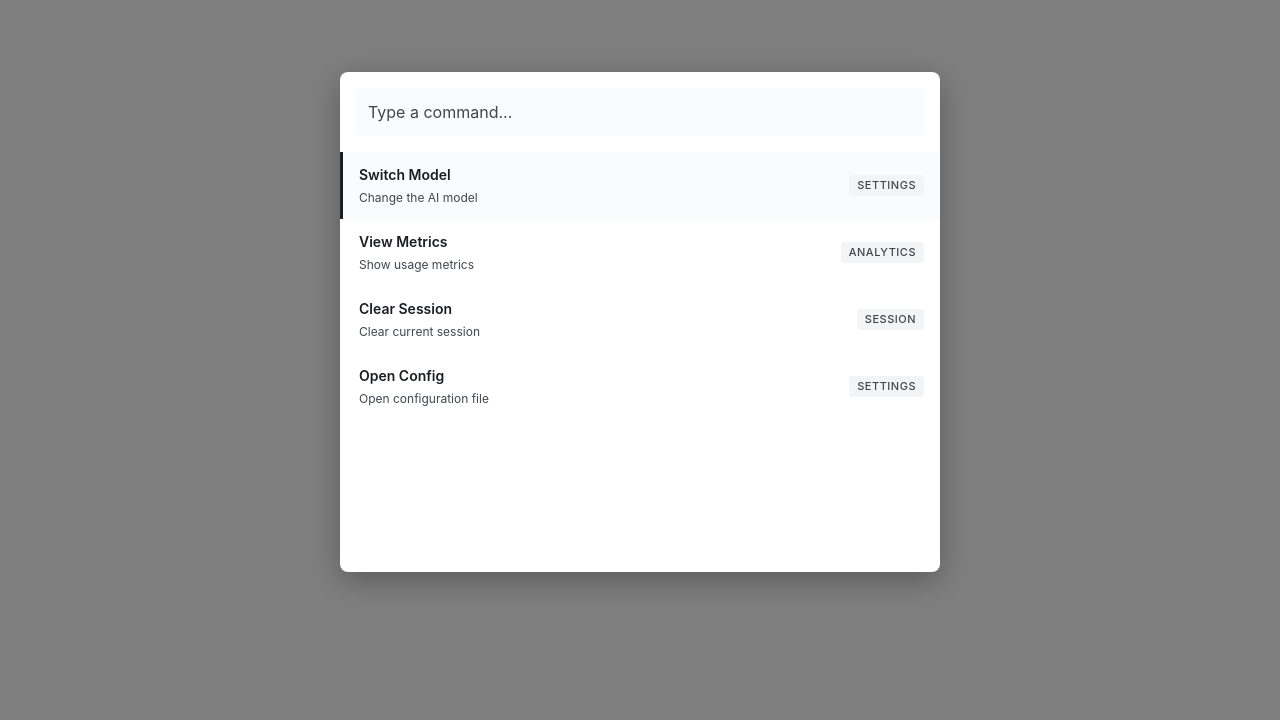
Scenario: CommandPalette.vue › Search Functionality › should show empty state when no matches found
The width and height of the screenshot is (1280, 720).
Type "nonexistent" into the field with class "search-input" at x=640, y=112, box x1=356 y1=88 x2=924 y2=136
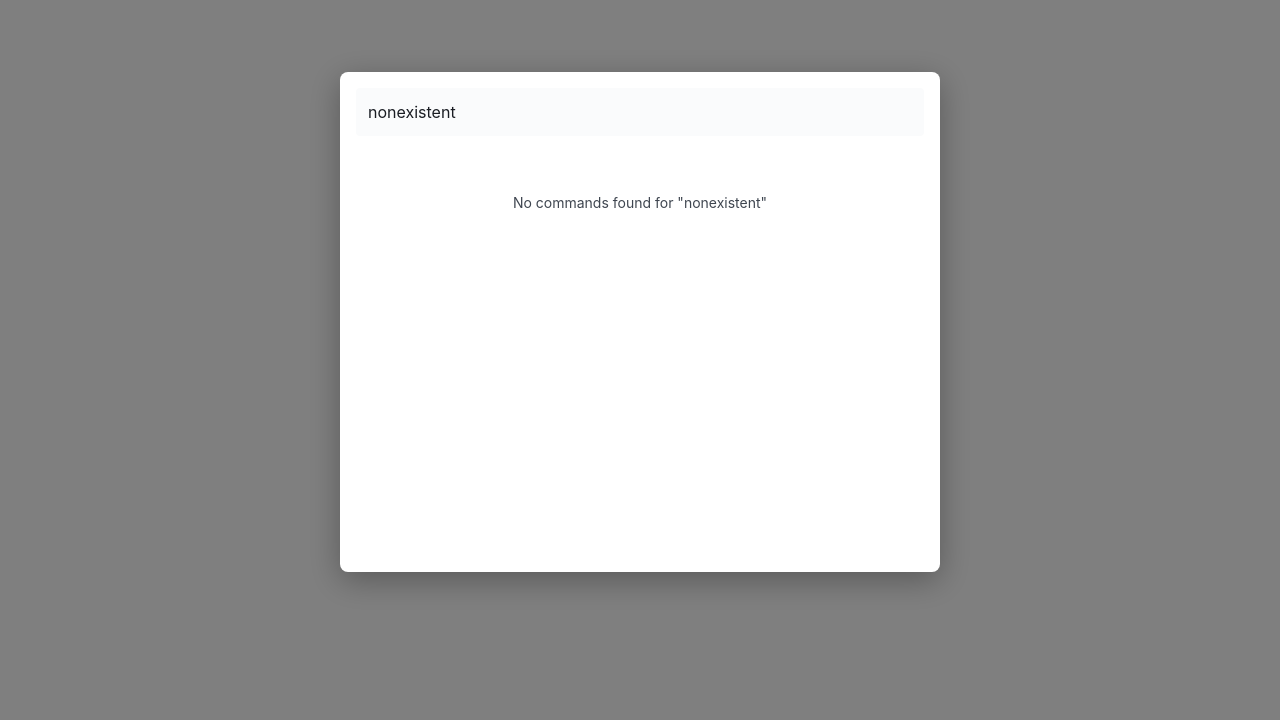
Now the text with class "empty-state" reads "No commands found for \"nonexistent\"", box x1=513 y1=194 x2=767 y2=211
